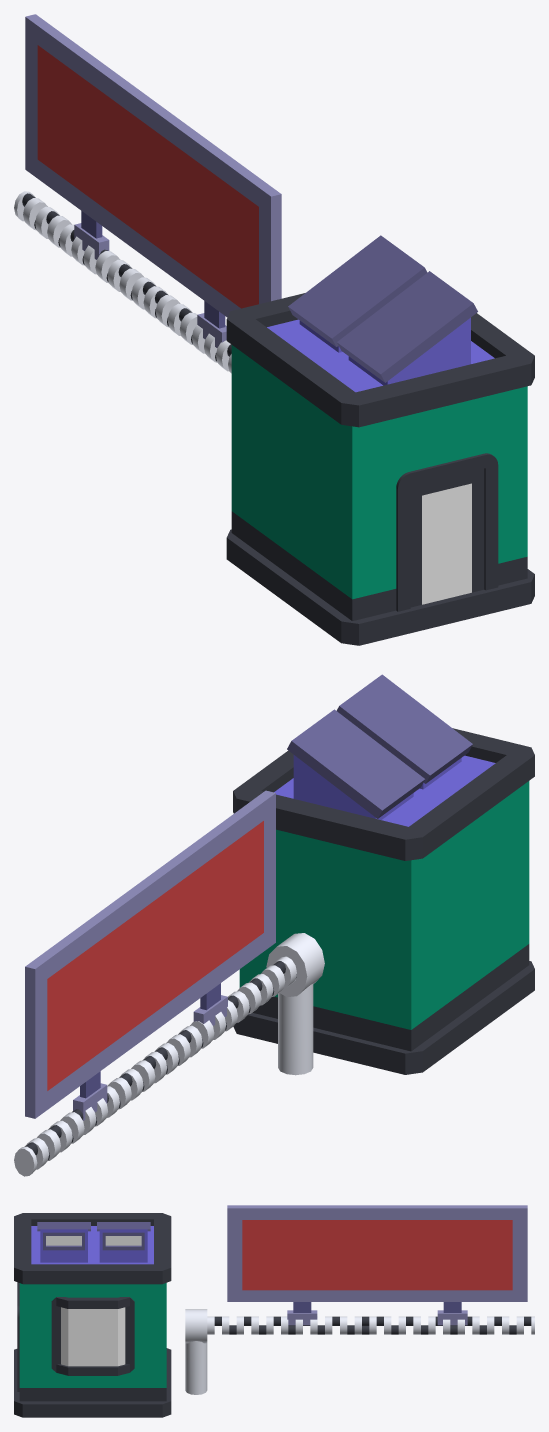
Rendered from kop1.fbx.
The picture shows the model from 3 angles, top to bottom: view 1: azimuth 30°, elevation 25°; view 2: azimuth 150°, elevation 25°; view 3: azimuth 270°, elevation 25°; orthographic projection. The views are drawn at different scales.
Visible parts, largest first — view 1: mergedBlocks; view 2: mergedBlocks; view 3: mergedBlocks.
Part boxes in pixels (box(x1,y1,x2,y2)): mergedBlocks: box(14, 14, 534, 645); mergedBlocks: box(14, 674, 534, 1176); mergedBlocks: box(14, 1205, 534, 1417).
Size of the model in its own units: 18.81 by 27.5 by 70.75.
